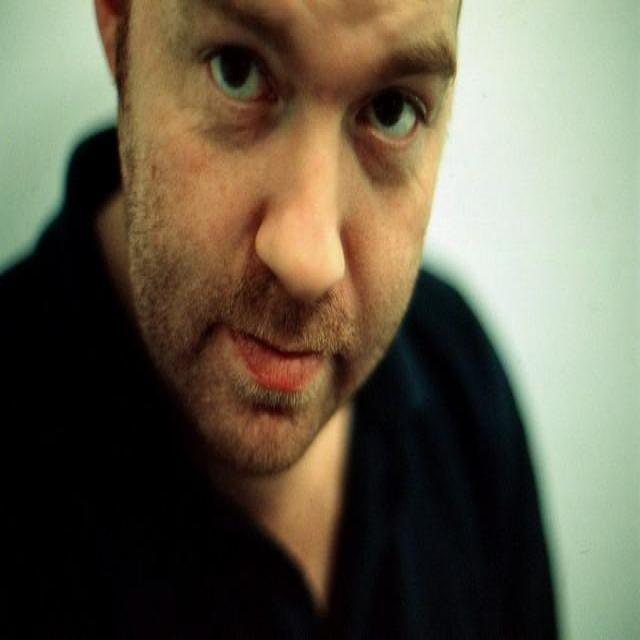Eyebags: (192, 77, 285, 150), (347, 126, 419, 187)
